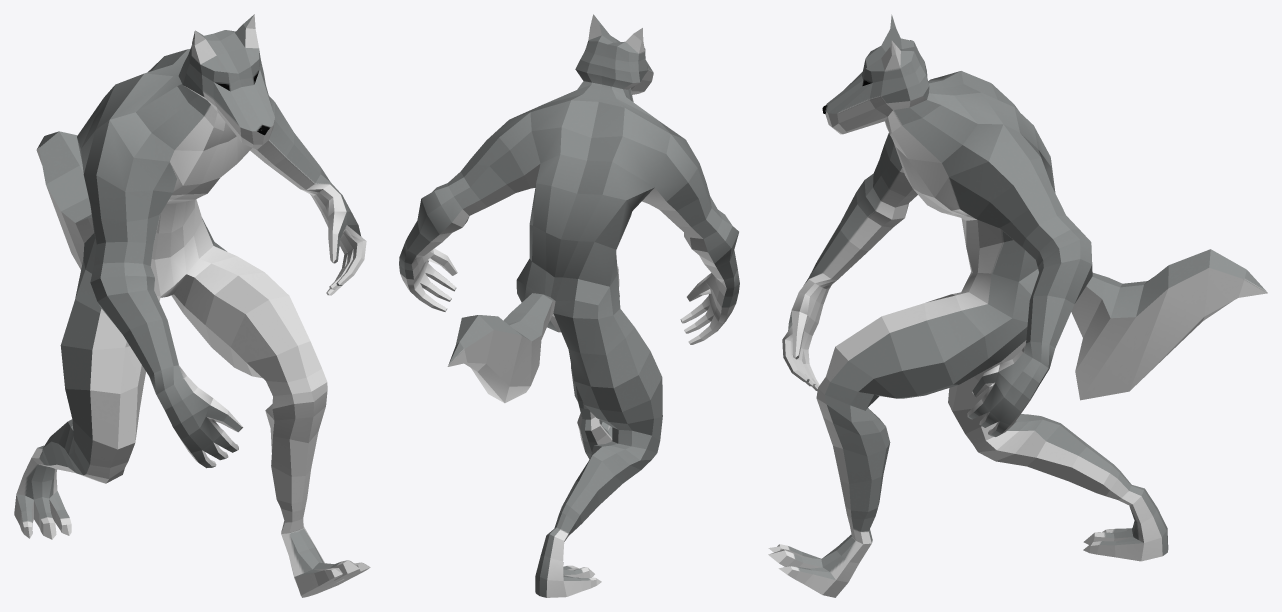
The model's file is WolfWalk(7).obj.
3 views of the same model, side by side, from view 1: azimuth 30°, elevation 25°; view 2: azimuth 150°, elevation 25°; view 3: azimuth 270°, elevation 25° (orthographic). The views are drawn at different scales.
Parts seen in each view (by area): view 1: Box001; view 2: Box001; view 3: Box001.
Boxes of the visible parts, left/top/right/bottom form: Box001: left=14, top=14, right=370, bottom=597; Box001: left=399, top=14, right=739, bottom=597; Box001: left=768, top=14, right=1267, bottom=597.
Size of the model in its own units: 80.8 by 137 by 112.
